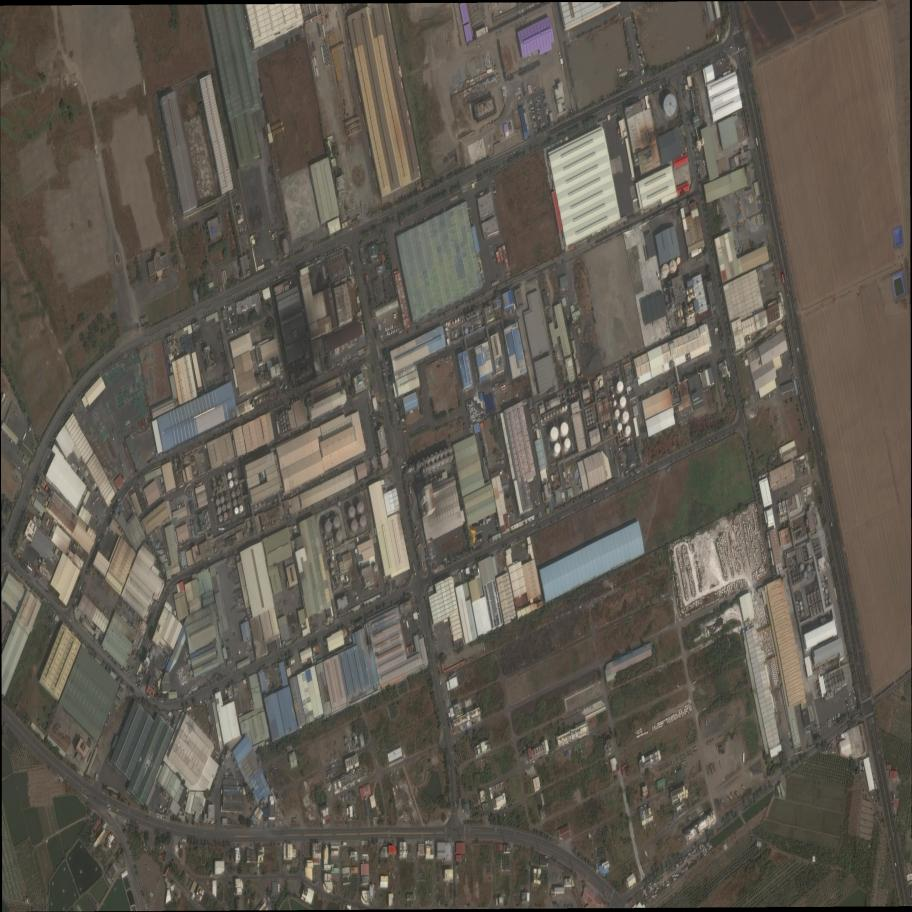large-vehicle: (92, 496, 100, 506), (13, 462, 21, 470), (609, 447, 613, 459), (536, 492, 540, 504), (412, 563, 416, 575), (405, 620, 410, 629), (416, 543, 422, 549), (755, 137, 759, 146), (415, 534, 420, 541), (423, 563, 427, 570), (782, 274, 785, 283), (421, 560, 424, 568), (403, 429, 407, 433)
storage-tank: (663, 94, 677, 116), (561, 422, 569, 436), (661, 264, 669, 278), (551, 427, 559, 440), (669, 260, 677, 273), (360, 515, 367, 527), (357, 501, 364, 513), (334, 516, 341, 528), (351, 520, 358, 531), (349, 506, 356, 517), (336, 530, 343, 541), (325, 521, 332, 532), (620, 396, 627, 407), (617, 381, 624, 392), (564, 438, 571, 449), (554, 443, 561, 453), (623, 411, 629, 422), (625, 426, 631, 434), (430, 454, 435, 462), (448, 446, 453, 454), (233, 470, 238, 478), (615, 409, 620, 417), (678, 309, 683, 317), (445, 455, 449, 464), (427, 464, 432, 471), (234, 479, 239, 486), (440, 458, 445, 465), (686, 312, 691, 319), (676, 257, 681, 264), (432, 462, 436, 470), (423, 466, 427, 474), (221, 496, 225, 504), (233, 499, 237, 507), (232, 491, 236, 499), (807, 564, 811, 572), (618, 423, 622, 431), (229, 481, 234, 487), (689, 304, 694, 310), (330, 562, 334, 569), (444, 448, 448, 455), (439, 451, 443, 458), (435, 453, 439, 460), (426, 457, 430, 464), (417, 461, 421, 468), (222, 504, 226, 511), (217, 507, 221, 514), (216, 498, 220, 505), (224, 512, 228, 519), (219, 515, 223, 522), (238, 497, 242, 504), (235, 507, 239, 514), (227, 502, 231, 509), (236, 489, 240, 496), (436, 460, 440, 467), (800, 564, 804, 571), (691, 311, 695, 318), (678, 318, 682, 325), (687, 295, 691, 302), (331, 570, 335, 576), (422, 460, 426, 466), (465, 328, 469, 334), (225, 494, 229, 500), (239, 506, 243, 512), (228, 473, 232, 479), (228, 511, 232, 517), (804, 571, 808, 577), (827, 674, 831, 680), (691, 293, 695, 299), (613, 400, 617, 405), (829, 680, 832, 686), (824, 676, 827, 682), (840, 674, 843, 679), (288, 425, 291, 430), (285, 427, 288, 432), (326, 541, 329, 546), (801, 612, 804, 617), (800, 606, 803, 611), (603, 424, 606, 429), (829, 598, 832, 603), (831, 678, 834, 683), (832, 683, 835, 688), (830, 674, 833, 679), (827, 691, 830, 696), (826, 686, 829, 691), (825, 681, 828, 686), (553, 411, 556, 416), (585, 413, 588, 418), (287, 421, 290, 425), (285, 410, 288, 414), (324, 535, 327, 539), (259, 399, 262, 403), (837, 676, 840, 680), (799, 601, 802, 605), (612, 393, 615, 397), (829, 686, 832, 690), (550, 413, 553, 417), (572, 389, 575, 393), (569, 391, 572, 395), (562, 407, 565, 411), (559, 408, 562, 412), (547, 414, 550, 418), (438, 478, 441, 482), (590, 407, 593, 411), (592, 420, 595, 424), (587, 422, 590, 426), (586, 417, 589, 421), (591, 411, 594, 415), (280, 413, 282, 418), (286, 415, 288, 420), (455, 333, 457, 338), (844, 678, 846, 683), (565, 406, 568, 409), (284, 419, 286, 423), (282, 411, 284, 415), (282, 425, 284, 429), (327, 547, 329, 551), (329, 539, 331, 543), (283, 429, 285, 433), (455, 320, 457, 324), (826, 600, 828, 604), (796, 600, 798, 604), (441, 477, 443, 481), (841, 680, 843, 684), (839, 681, 841, 685), (836, 682, 838, 686), (835, 678, 837, 682), (834, 673, 836, 677), (557, 409, 559, 413), (544, 416, 546, 420), (436, 479, 438, 483), (585, 409, 587, 413), (589, 416, 591, 420), (588, 412, 590, 416), (280, 418, 282, 421), (285, 424, 287, 427), (283, 416, 285, 419), (330, 545, 332, 548), (281, 422, 283, 425), (457, 319, 459, 322), (452, 322, 454, 325), (797, 605, 799, 608), (588, 408, 590, 411), (590, 421, 592, 424), (592, 416, 594, 419), (798, 608, 799, 612)
